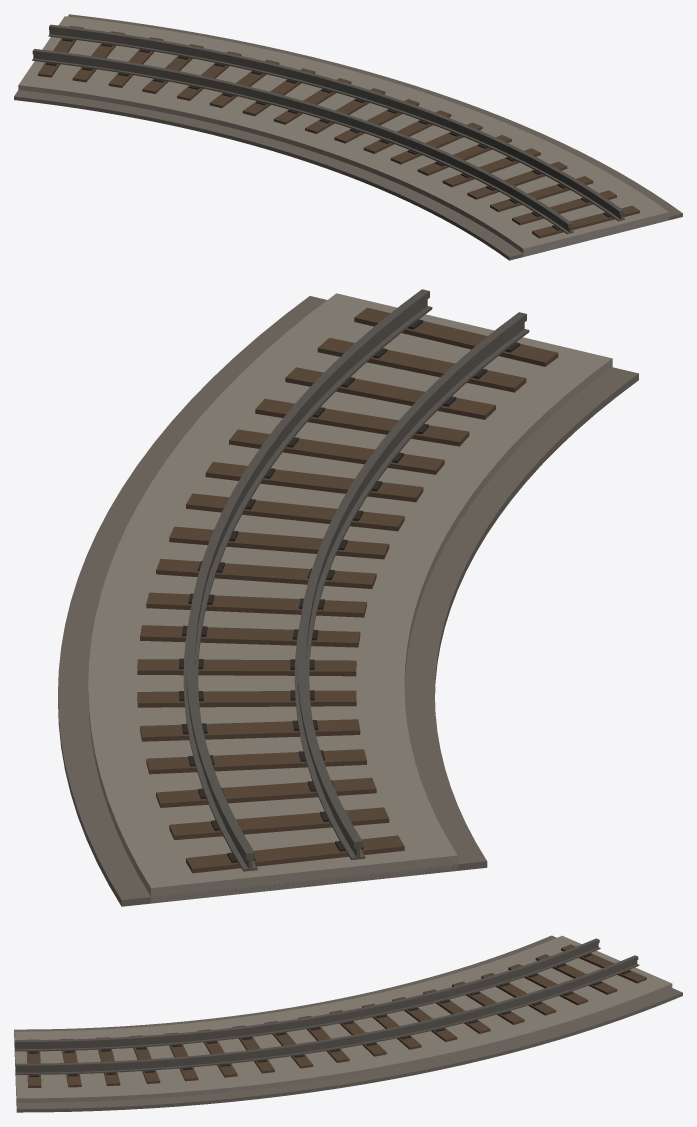
The model's file is rieles-riel-curva-suave.glb.
3 renders of one model, top to bottom at view 1: azimuth 30°, elevation 25°; view 2: azimuth 150°, elevation 25°; view 3: azimuth 270°, elevation 25°, orthographic. The views are drawn at different scales.
Parts seen in each view (by area): view 1: riel_curva_suave_Balasto, riel_curva_suave_Riel, riel_curva_suave_Durmiente, riel_curva_suave_BalastoHombro, riel_curva_suave_PlacaApoyo; view 2: riel_curva_suave_Balasto, riel_curva_suave_Durmiente, riel_curva_suave_BalastoHombro, riel_curva_suave_Riel, riel_curva_suave_PlacaApoyo; view 3: riel_curva_suave_Balasto, riel_curva_suave_Riel, riel_curva_suave_BalastoHombro, riel_curva_suave_Durmiente, riel_curva_suave_PlacaApoyo.
Boxes of the visible parts, x1,y1,x2,y2 form: riel_curva_suave_Balasto: [18, 16, 668, 256]; riel_curva_suave_Riel: [32, 24, 624, 234]; riel_curva_suave_Durmiente: [38, 26, 639, 238]; riel_curva_suave_BalastoHombro: [14, 14, 682, 260]; riel_curva_suave_PlacaApoyo: [45, 38, 611, 230]; riel_curva_suave_Balasto: [88, 293, 612, 903]; riel_curva_suave_Durmiente: [137, 307, 558, 873]; riel_curva_suave_BalastoHombro: [58, 296, 638, 906]; riel_curva_suave_Riel: [183, 289, 529, 871]; riel_curva_suave_PlacaApoyo: [179, 319, 520, 863]; riel_curva_suave_Balasto: [14, 935, 672, 1104]; riel_curva_suave_Riel: [15, 938, 639, 1074]; riel_curva_suave_BalastoHombro: [14, 935, 682, 1112]; riel_curva_suave_Durmiente: [26, 944, 646, 1087]; riel_curva_suave_PlacaApoyo: [28, 953, 630, 1076].
Bounding box in the file's own units: 6.76 × 0.36 × 11.
